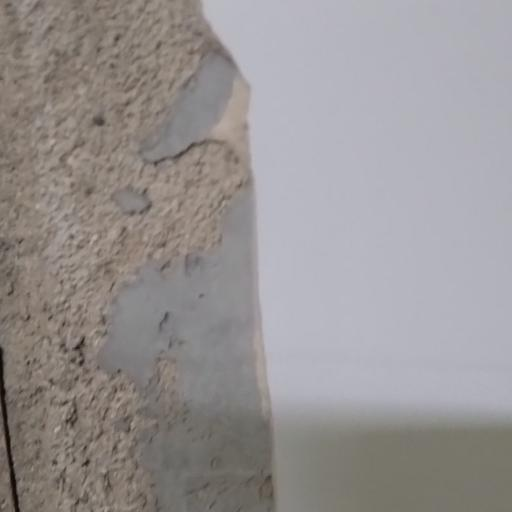spalling: (0, 0, 297, 511)
